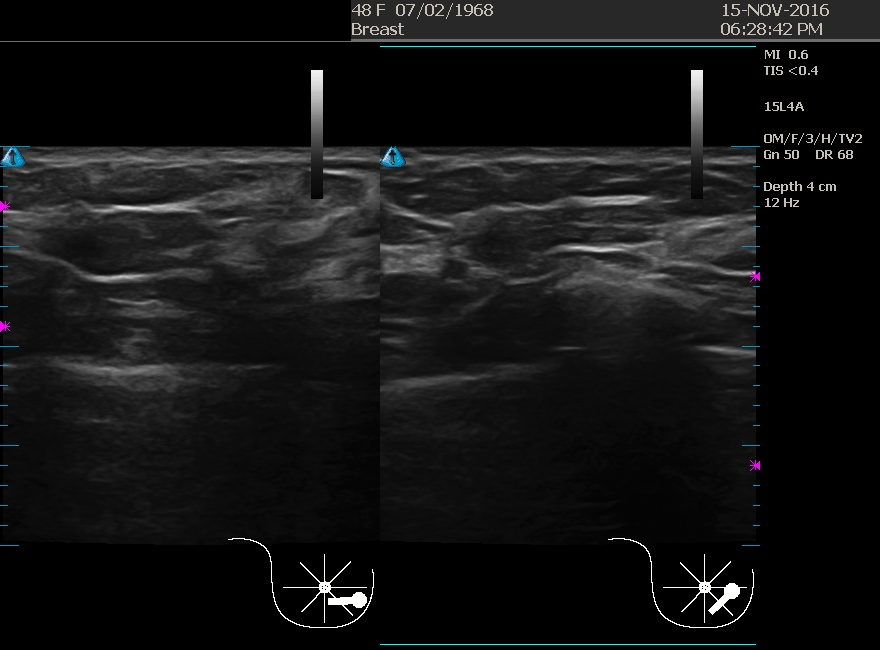BIRADS_3: (30, 152, 230, 352), (437, 177, 637, 377)
